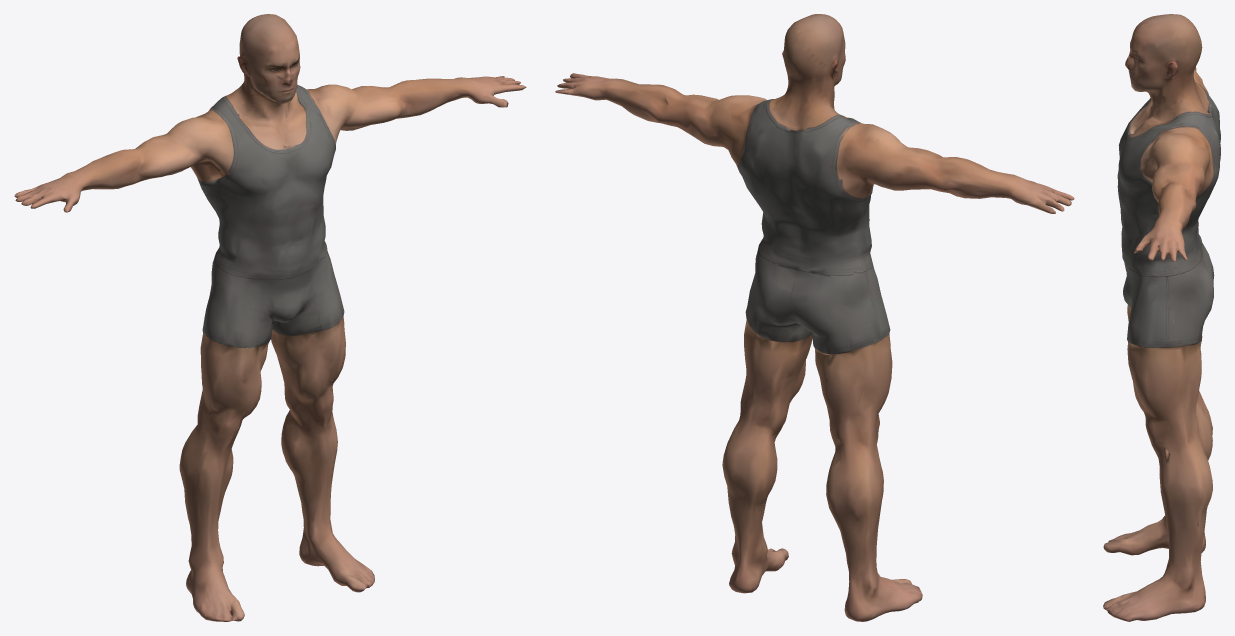
Rendered from legionario_m_mixamo.fbx.
3 views of the same model, side by side, from view 1: azimuth 30°, elevation 25°; view 2: azimuth 150°, elevation 25°; view 3: azimuth 270°, elevation 25° (orthographic). The views are drawn at different scales.
Visible parts, largest first — view 1: legionario_m; view 2: legionario_m; view 3: legionario_m.
Boxes of the visible parts, bbox=[...] form: legionario_m: bbox=[14, 14, 526, 621]; legionario_m: bbox=[555, 14, 1074, 621]; legionario_m: bbox=[1103, 14, 1220, 621].
Bounding box in the file's own units: 1.7 × 1.85 × 0.3495.
Materials: 1 (1 with a texture image).
